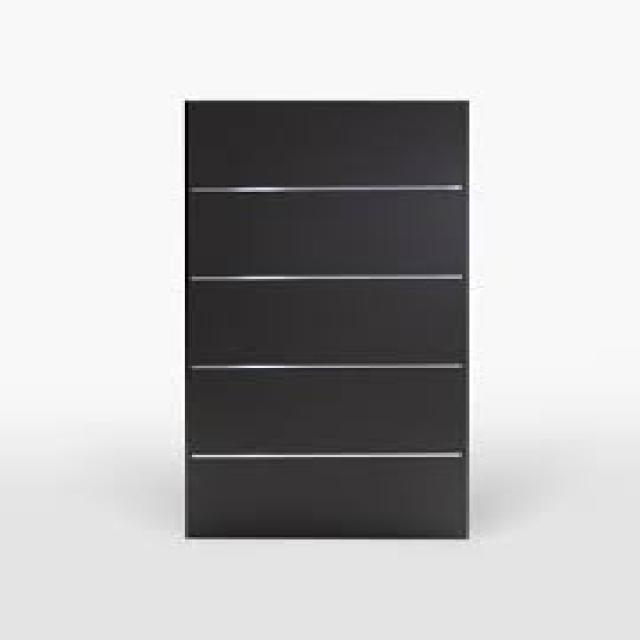door: (181, 100, 473, 540)
